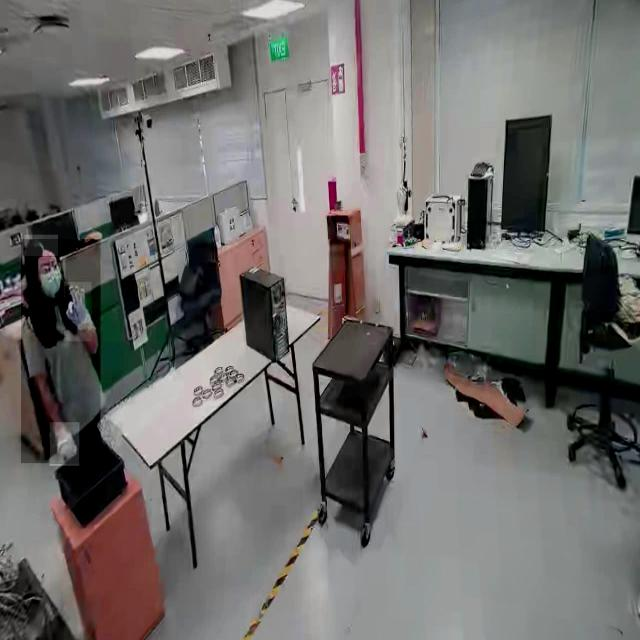face_mask: (38, 257, 66, 298)
hand_glove: (64, 282, 92, 341), (49, 422, 79, 467)
head_nohelmet: (24, 235, 58, 257)
person: (20, 239, 100, 464)
